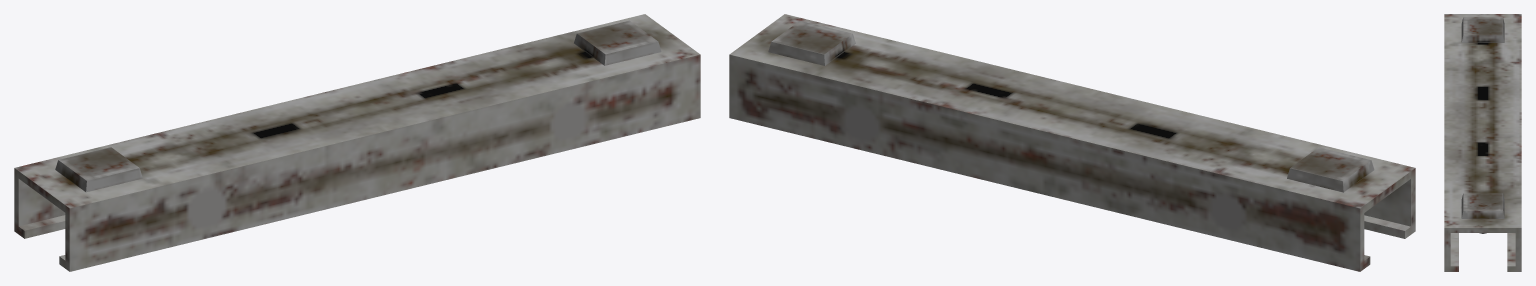
Rendered from Bracket_03a_snaps019.fbx.
3 renders of one model, left to right at view 1: azimuth 30°, elevation 25°; view 2: azimuth 150°, elevation 25°; view 3: azimuth 270°, elevation 25°, orthographic. The views are drawn at different scales.
Visible parts, largest first — view 1: Bracket_03a_snaps019_LOD0; view 2: Bracket_03a_snaps019_LOD0; view 3: Bracket_03a_snaps019_LOD0.
Part boxes in pixels (<box>): Bracket_03a_snaps019_LOD0: <box>14,14,700,271</box>; Bracket_03a_snaps019_LOD0: <box>729,14,1415,271</box>; Bracket_03a_snaps019_LOD0: <box>1444,14,1521,271</box>.
Size of what is drawn, in the model's own units: 26 by 2.9 by 3.96.
